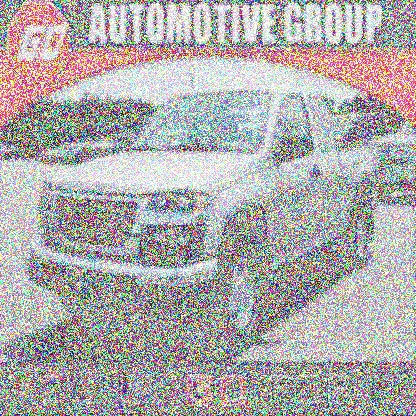Vehicle: (27, 81, 381, 354)
